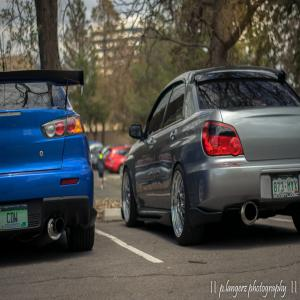Vehicle-registration-plate: (273, 171, 294, 207), (1, 206, 29, 231)
